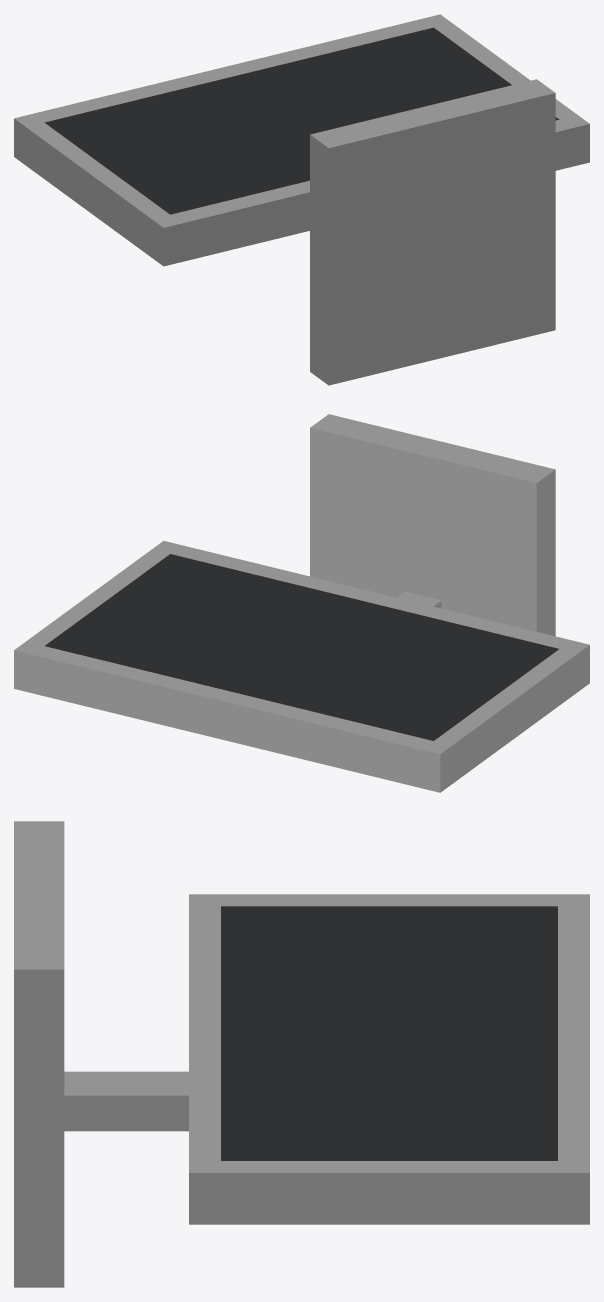
File: Monitor.glb
3 renders of one model, top to bottom at view 1: azimuth 30°, elevation 25°; view 2: azimuth 150°, elevation 25°; view 3: azimuth 270°, elevation 25°, orthographic. The views are drawn at different scales.
Visible parts, largest first — view 1: SO_Monitor_01; view 2: SO_Monitor_01; view 3: SO_Monitor_01.
Part boxes in pixels (x1=…): SO_Monitor_01: x1=14, y1=14, x2=589, y2=385; SO_Monitor_01: x1=14, y1=414, x2=589, y2=792; SO_Monitor_01: x1=14, y1=821, x2=589, y2=1287.
Size of the model in its own units: 1.27 by 0.6764 by 1.11.
Materials: 1 (1 with a texture image).
